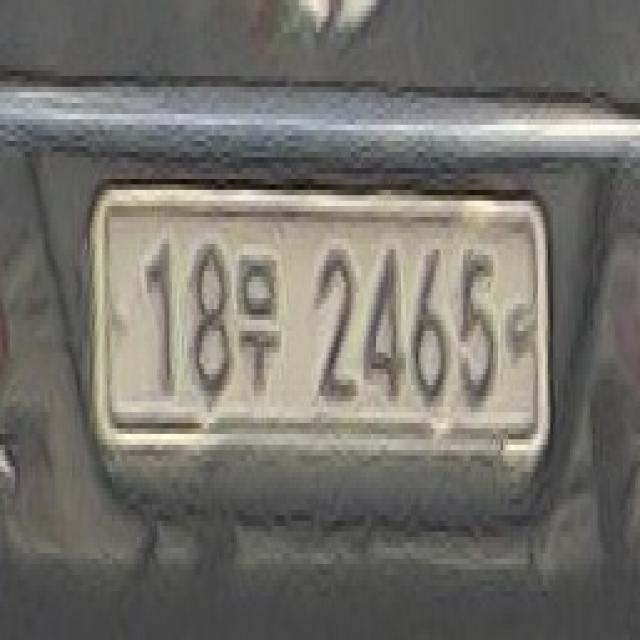1: (139, 228, 182, 412)
2: (311, 238, 364, 418)
4: (364, 239, 408, 412)
5: (453, 244, 501, 412)
6: (408, 244, 451, 412)
8: (187, 233, 234, 418)
license_plate: (82, 168, 553, 488)
mu: (234, 233, 281, 407)
